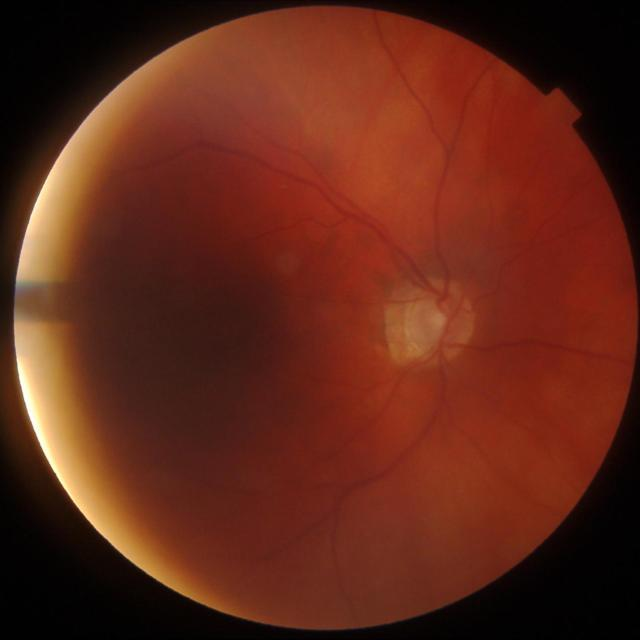OC: (428, 309, 453, 335)
OD: (404, 288, 476, 360)
